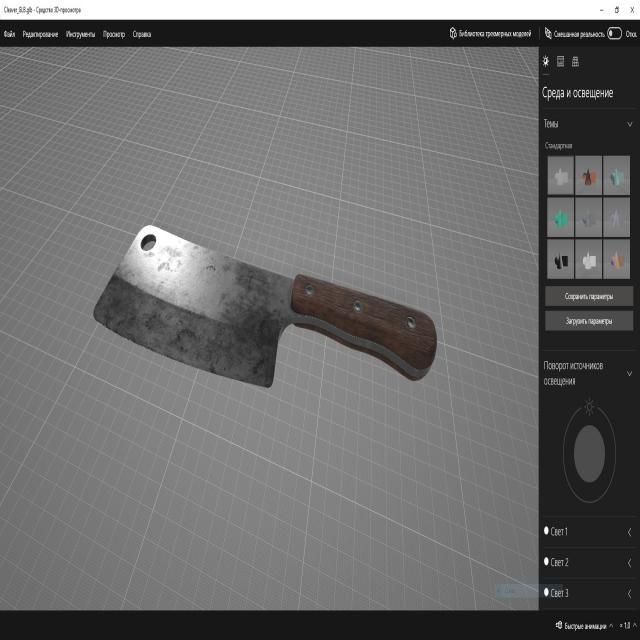cleaver: (92, 217, 442, 407)
